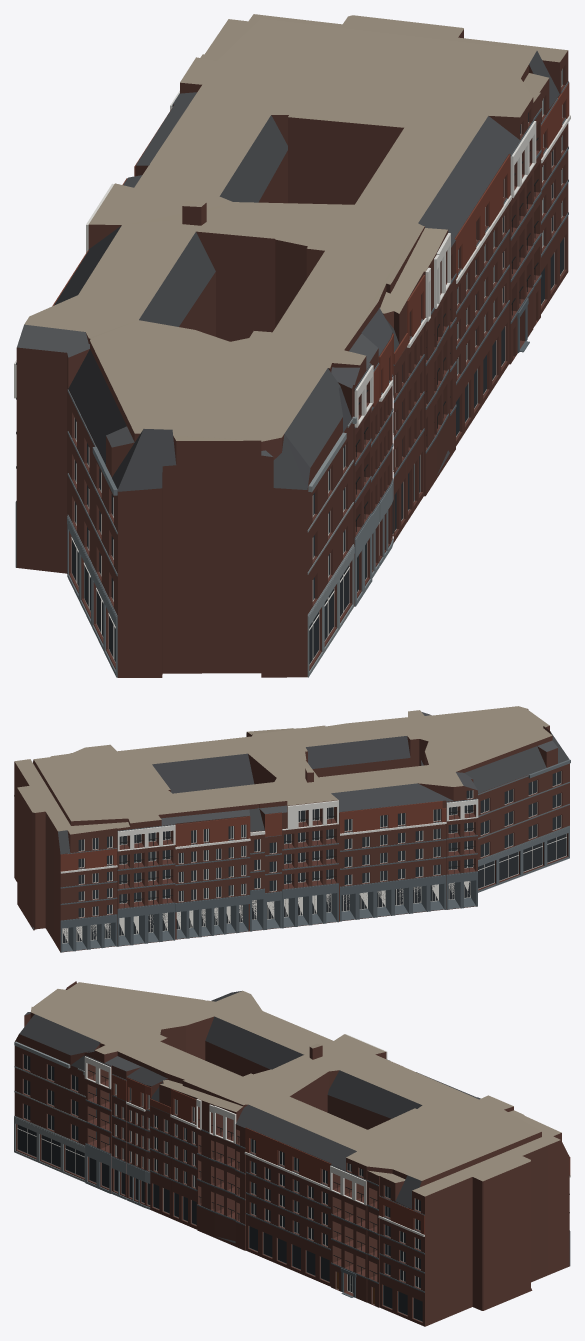
Rendered from recipe-large-cornelis-vermuydenstraat-1-1-243817.glb.
3 views of the same model, one above another, from view 1: azimuth 30°, elevation 25°; view 2: azimuth 150°, elevation 25°; view 3: azimuth 270°, elevation 25° (orthographic). The views are drawn at different scales.
Parts seen in each view (by area): view 1: cornelis-vermuydenstraat-1-1-243817; view 2: cornelis-vermuydenstraat-1-1-243817; view 3: cornelis-vermuydenstraat-1-1-243817.
Boxes of the visible parts, x1,y1,x2,y2 form: cornelis-vermuydenstraat-1-1-243817: (14, 14, 570, 677); cornelis-vermuydenstraat-1-1-243817: (14, 706, 570, 952); cornelis-vermuydenstraat-1-1-243817: (14, 981, 570, 1326).
Size of the model in its own units: 60.82 by 19.37 by 65.97.
